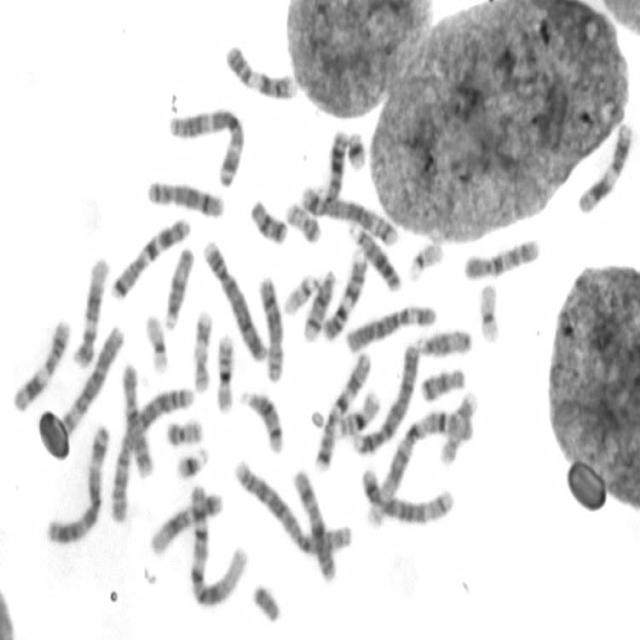A1: (362, 400, 477, 528), (186, 481, 250, 609)
A2: (107, 381, 196, 527), (230, 454, 353, 558)
A3: (42, 419, 110, 544), (166, 104, 246, 189)
B4: (200, 236, 268, 364), (350, 338, 420, 457)
B5: (297, 183, 399, 247), (358, 462, 454, 527)
C10: (119, 359, 155, 480), (460, 234, 540, 283)
C11: (8, 314, 72, 415), (574, 118, 634, 216)
C12: (147, 486, 223, 558), (70, 252, 110, 369)
C6: (56, 322, 126, 439), (342, 301, 438, 354)
C7: (311, 348, 372, 472), (107, 214, 192, 302)
C8: (143, 175, 226, 220), (254, 272, 284, 384)
C9: (221, 41, 298, 102), (321, 247, 368, 343)
D13: (345, 220, 403, 294), (320, 126, 350, 207)
D14: (237, 385, 285, 456), (300, 266, 337, 343)
D15: (161, 244, 196, 332), (413, 325, 474, 358)
E16: (334, 385, 382, 439), (212, 330, 235, 414)
E17: (435, 388, 479, 467), (189, 307, 214, 394)
E18: (246, 194, 289, 246), (418, 364, 467, 404)
F19: (142, 308, 170, 375), (475, 280, 502, 346)
F20: (282, 198, 323, 245), (162, 414, 204, 448)
G21: (173, 444, 210, 481), (344, 126, 368, 172)
G22: (404, 237, 446, 282), (280, 270, 320, 317)
X: (289, 465, 337, 583)
Y: (250, 579, 282, 624)
